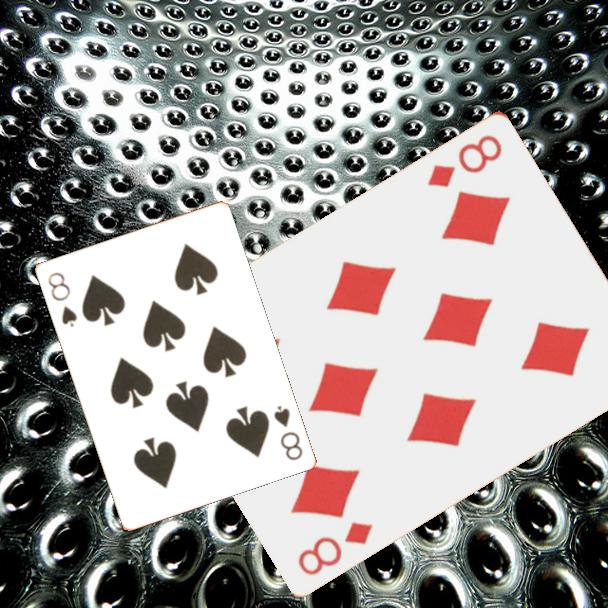d08: (294, 517, 376, 578), (423, 130, 505, 190)
s08: (44, 268, 80, 330), (270, 402, 305, 463)
